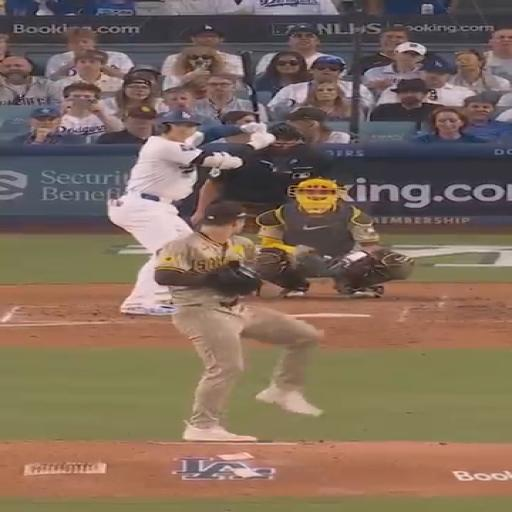bat: (241, 52, 260, 121)
